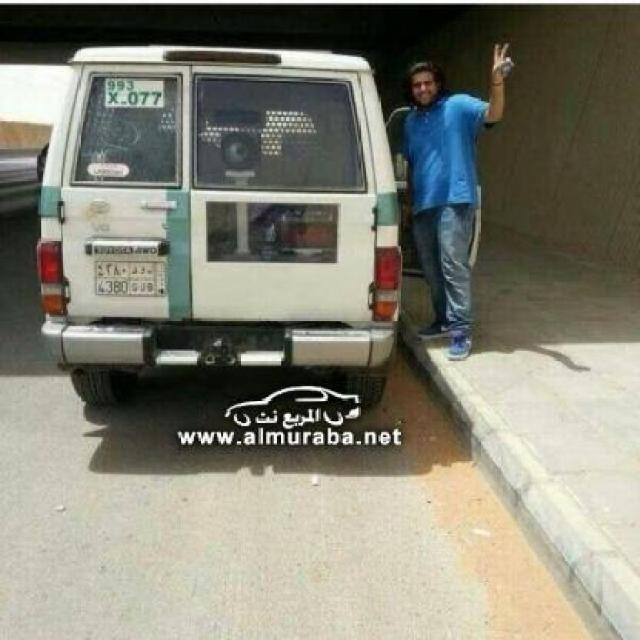license_plate: (92, 258, 170, 300)
